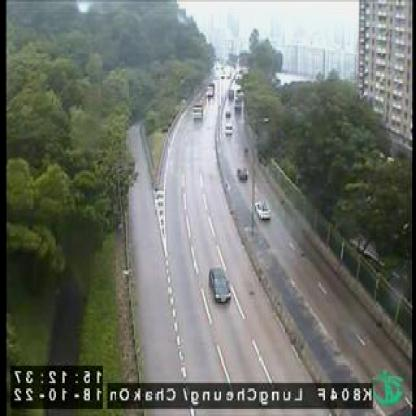Car: (208, 262, 230, 304), (253, 198, 272, 223), (235, 162, 249, 182)
Truck: (192, 104, 204, 126)
